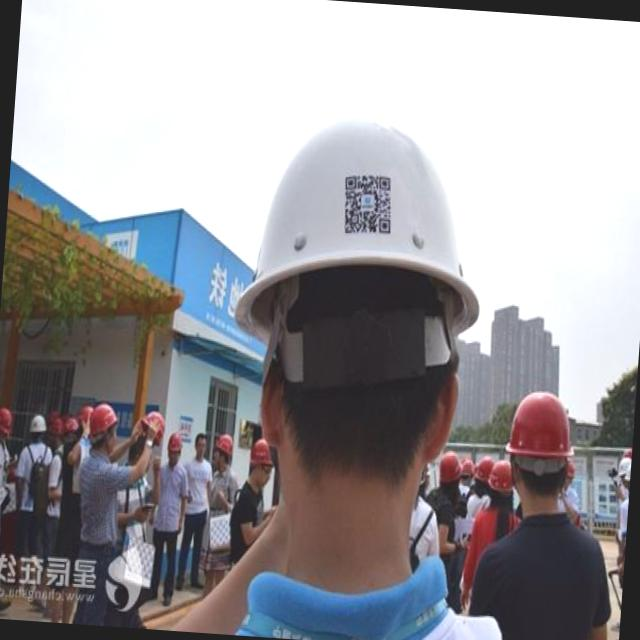helmet: (227, 90, 504, 352), (500, 373, 586, 479), (80, 394, 124, 445), (210, 429, 238, 463), (26, 409, 53, 444)
no-vest: (72, 454, 124, 554)
